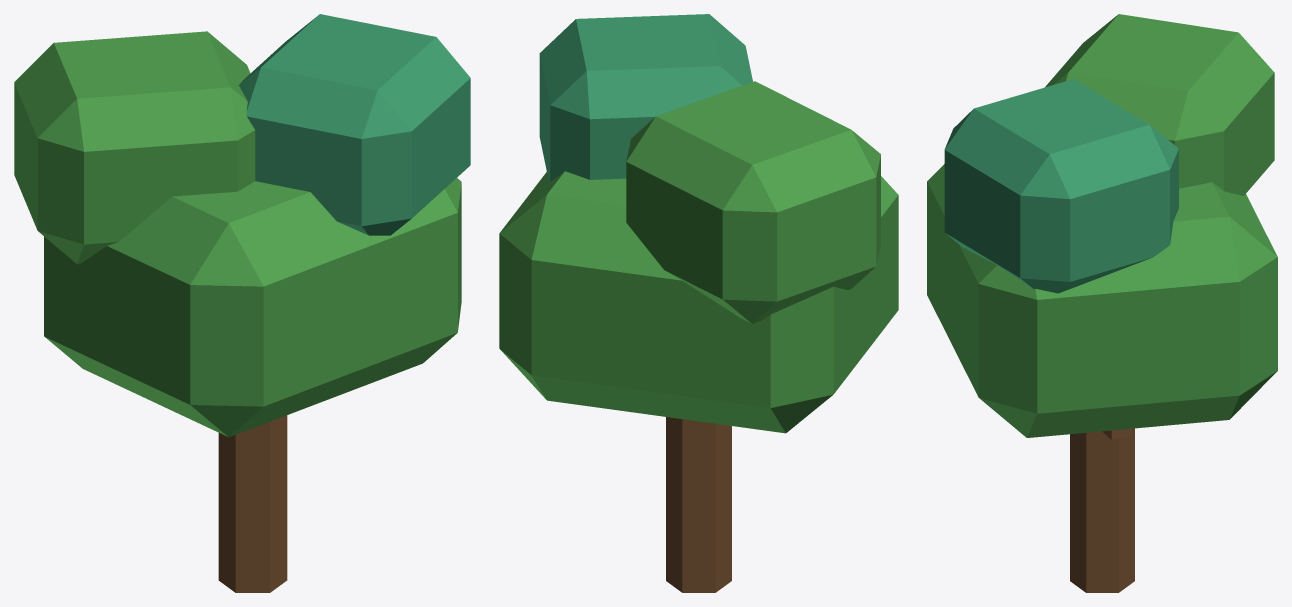
File: tree_oak.fbx
3 views of the same model, side by side, from view 1: azimuth 30°, elevation 25°; view 2: azimuth 150°, elevation 25°; view 3: azimuth 270°, elevation 25° (orthographic). The views are drawn at different scales.
Parts seen in each view (by area): view 1: tree_oak; view 2: tree_oak; view 3: tree_oak.
Part boxes in pixels (left/top/right/bottom): tree_oak: left=14, top=14, right=470, bottom=592; tree_oak: left=499, top=14, right=898, bottom=592; tree_oak: left=927, top=14, right=1277, bottom=592.
Bounding box in the file's own units: 4.11 × 5.4 × 3.44.
